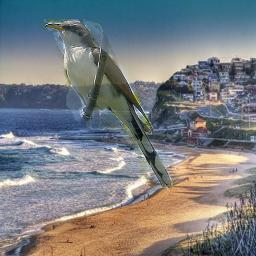Cuckoo: (44, 19, 173, 189)
